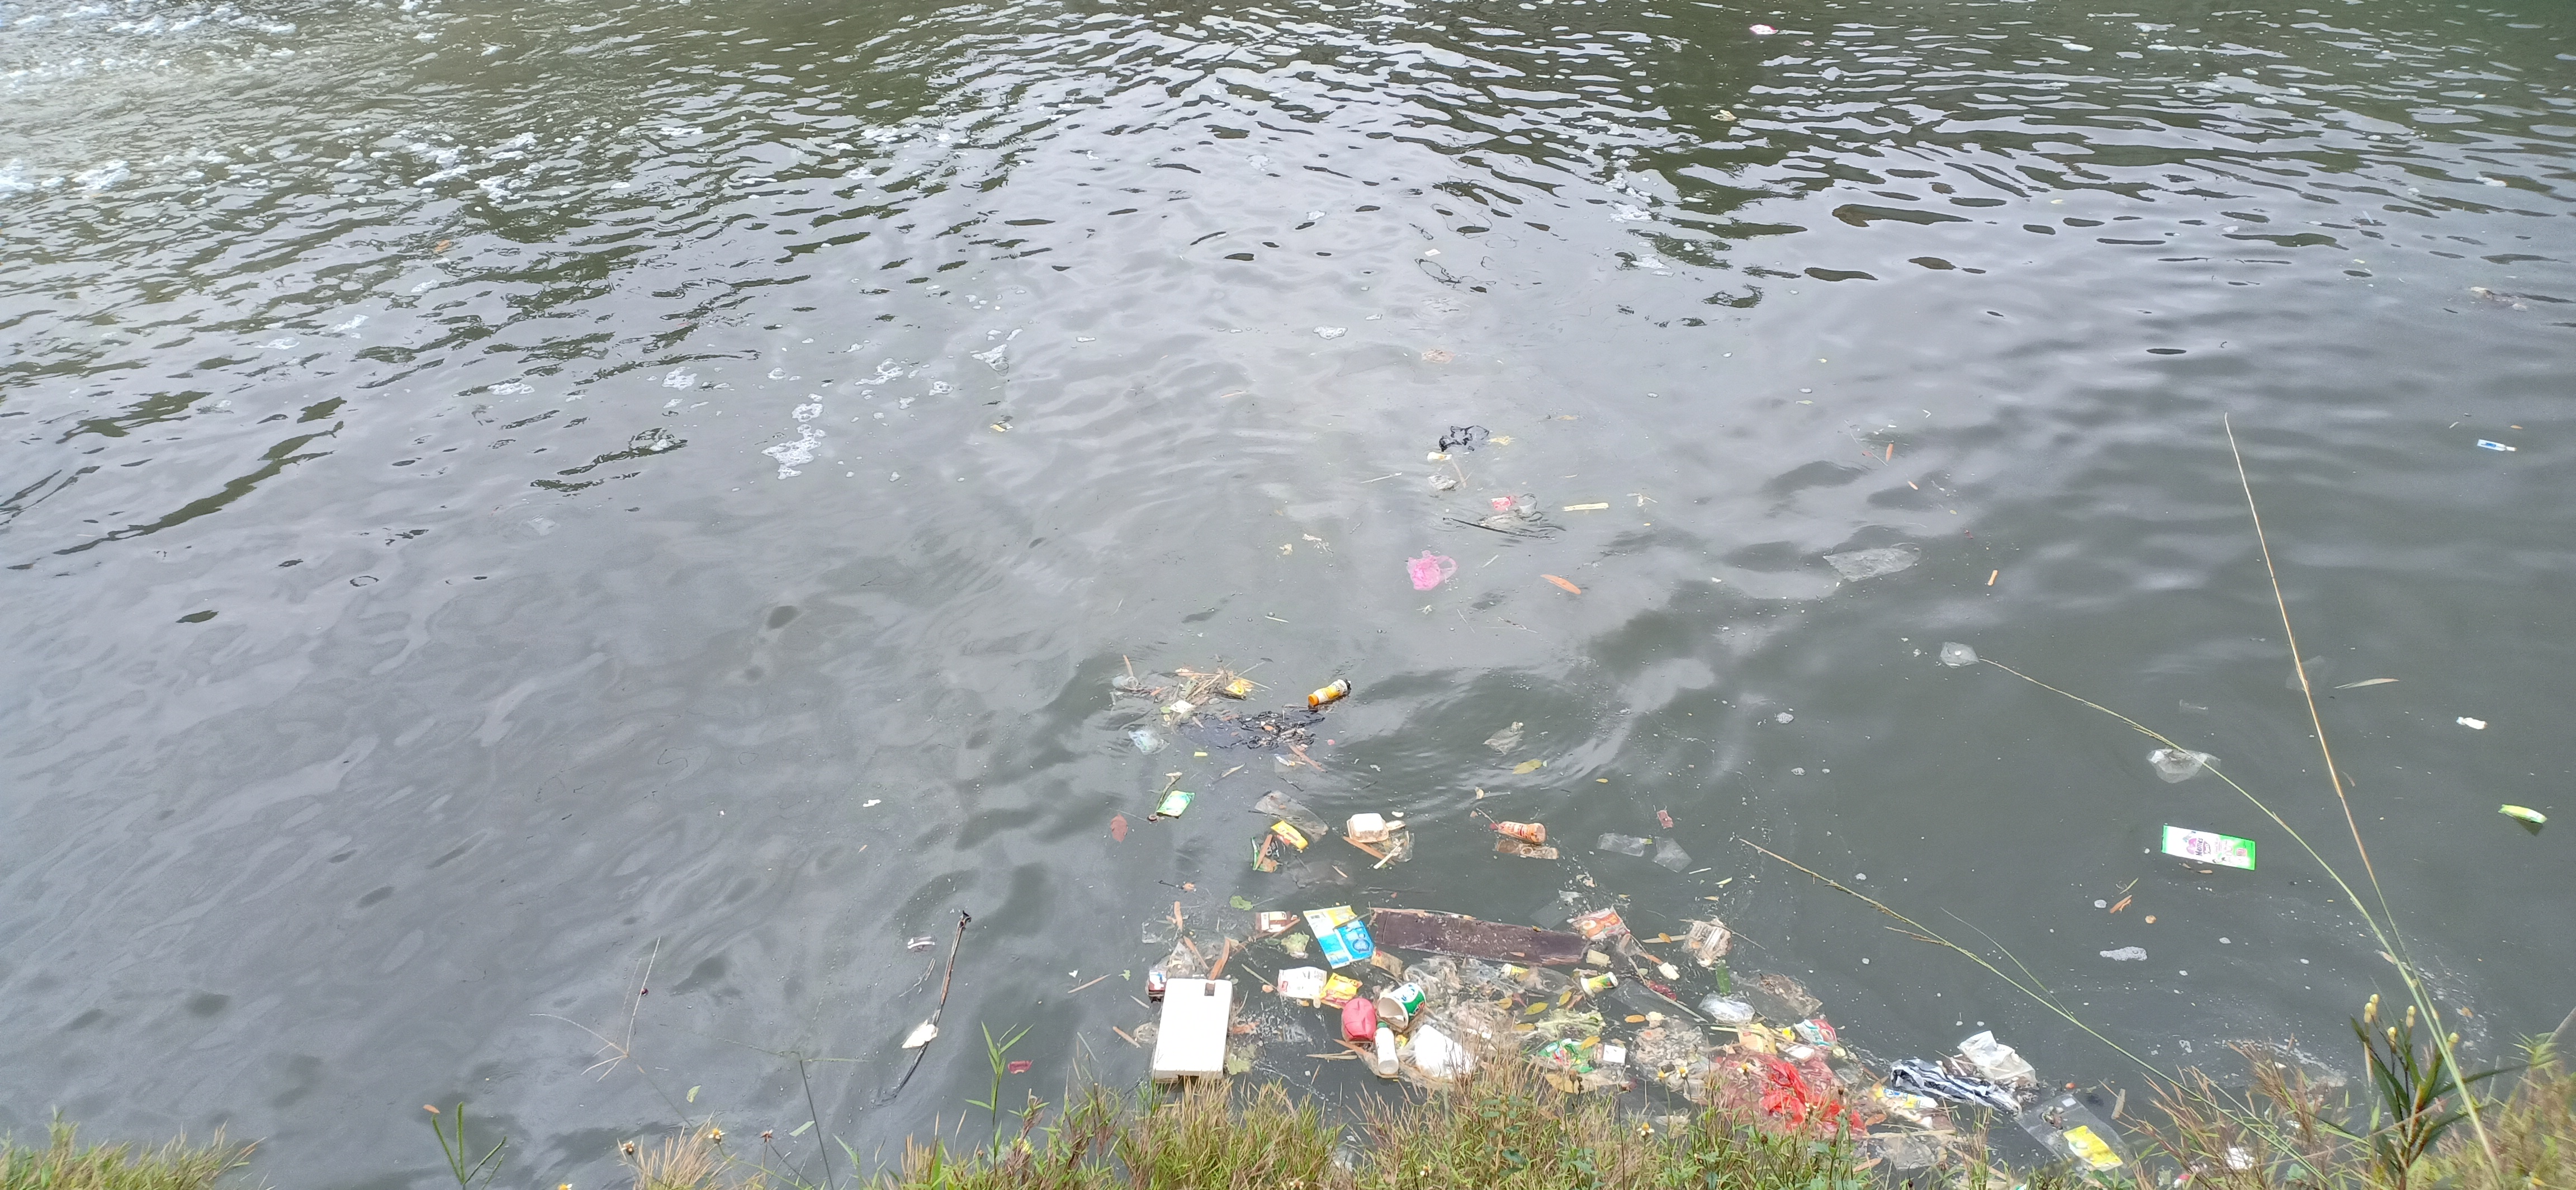Plastic Bottle: (1373, 1022, 1400, 1075), (1498, 820, 1546, 845), (1308, 679, 1350, 705)
